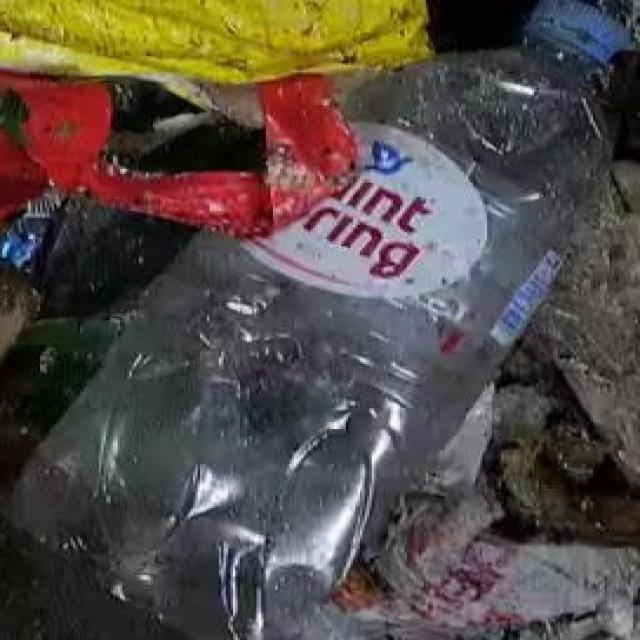litter: (49, 0, 602, 605)
